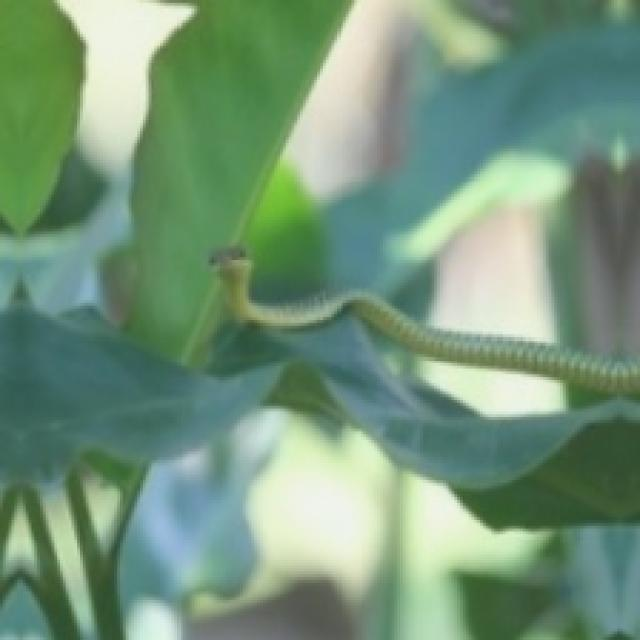paradise tree snake: (211, 249, 637, 394)
